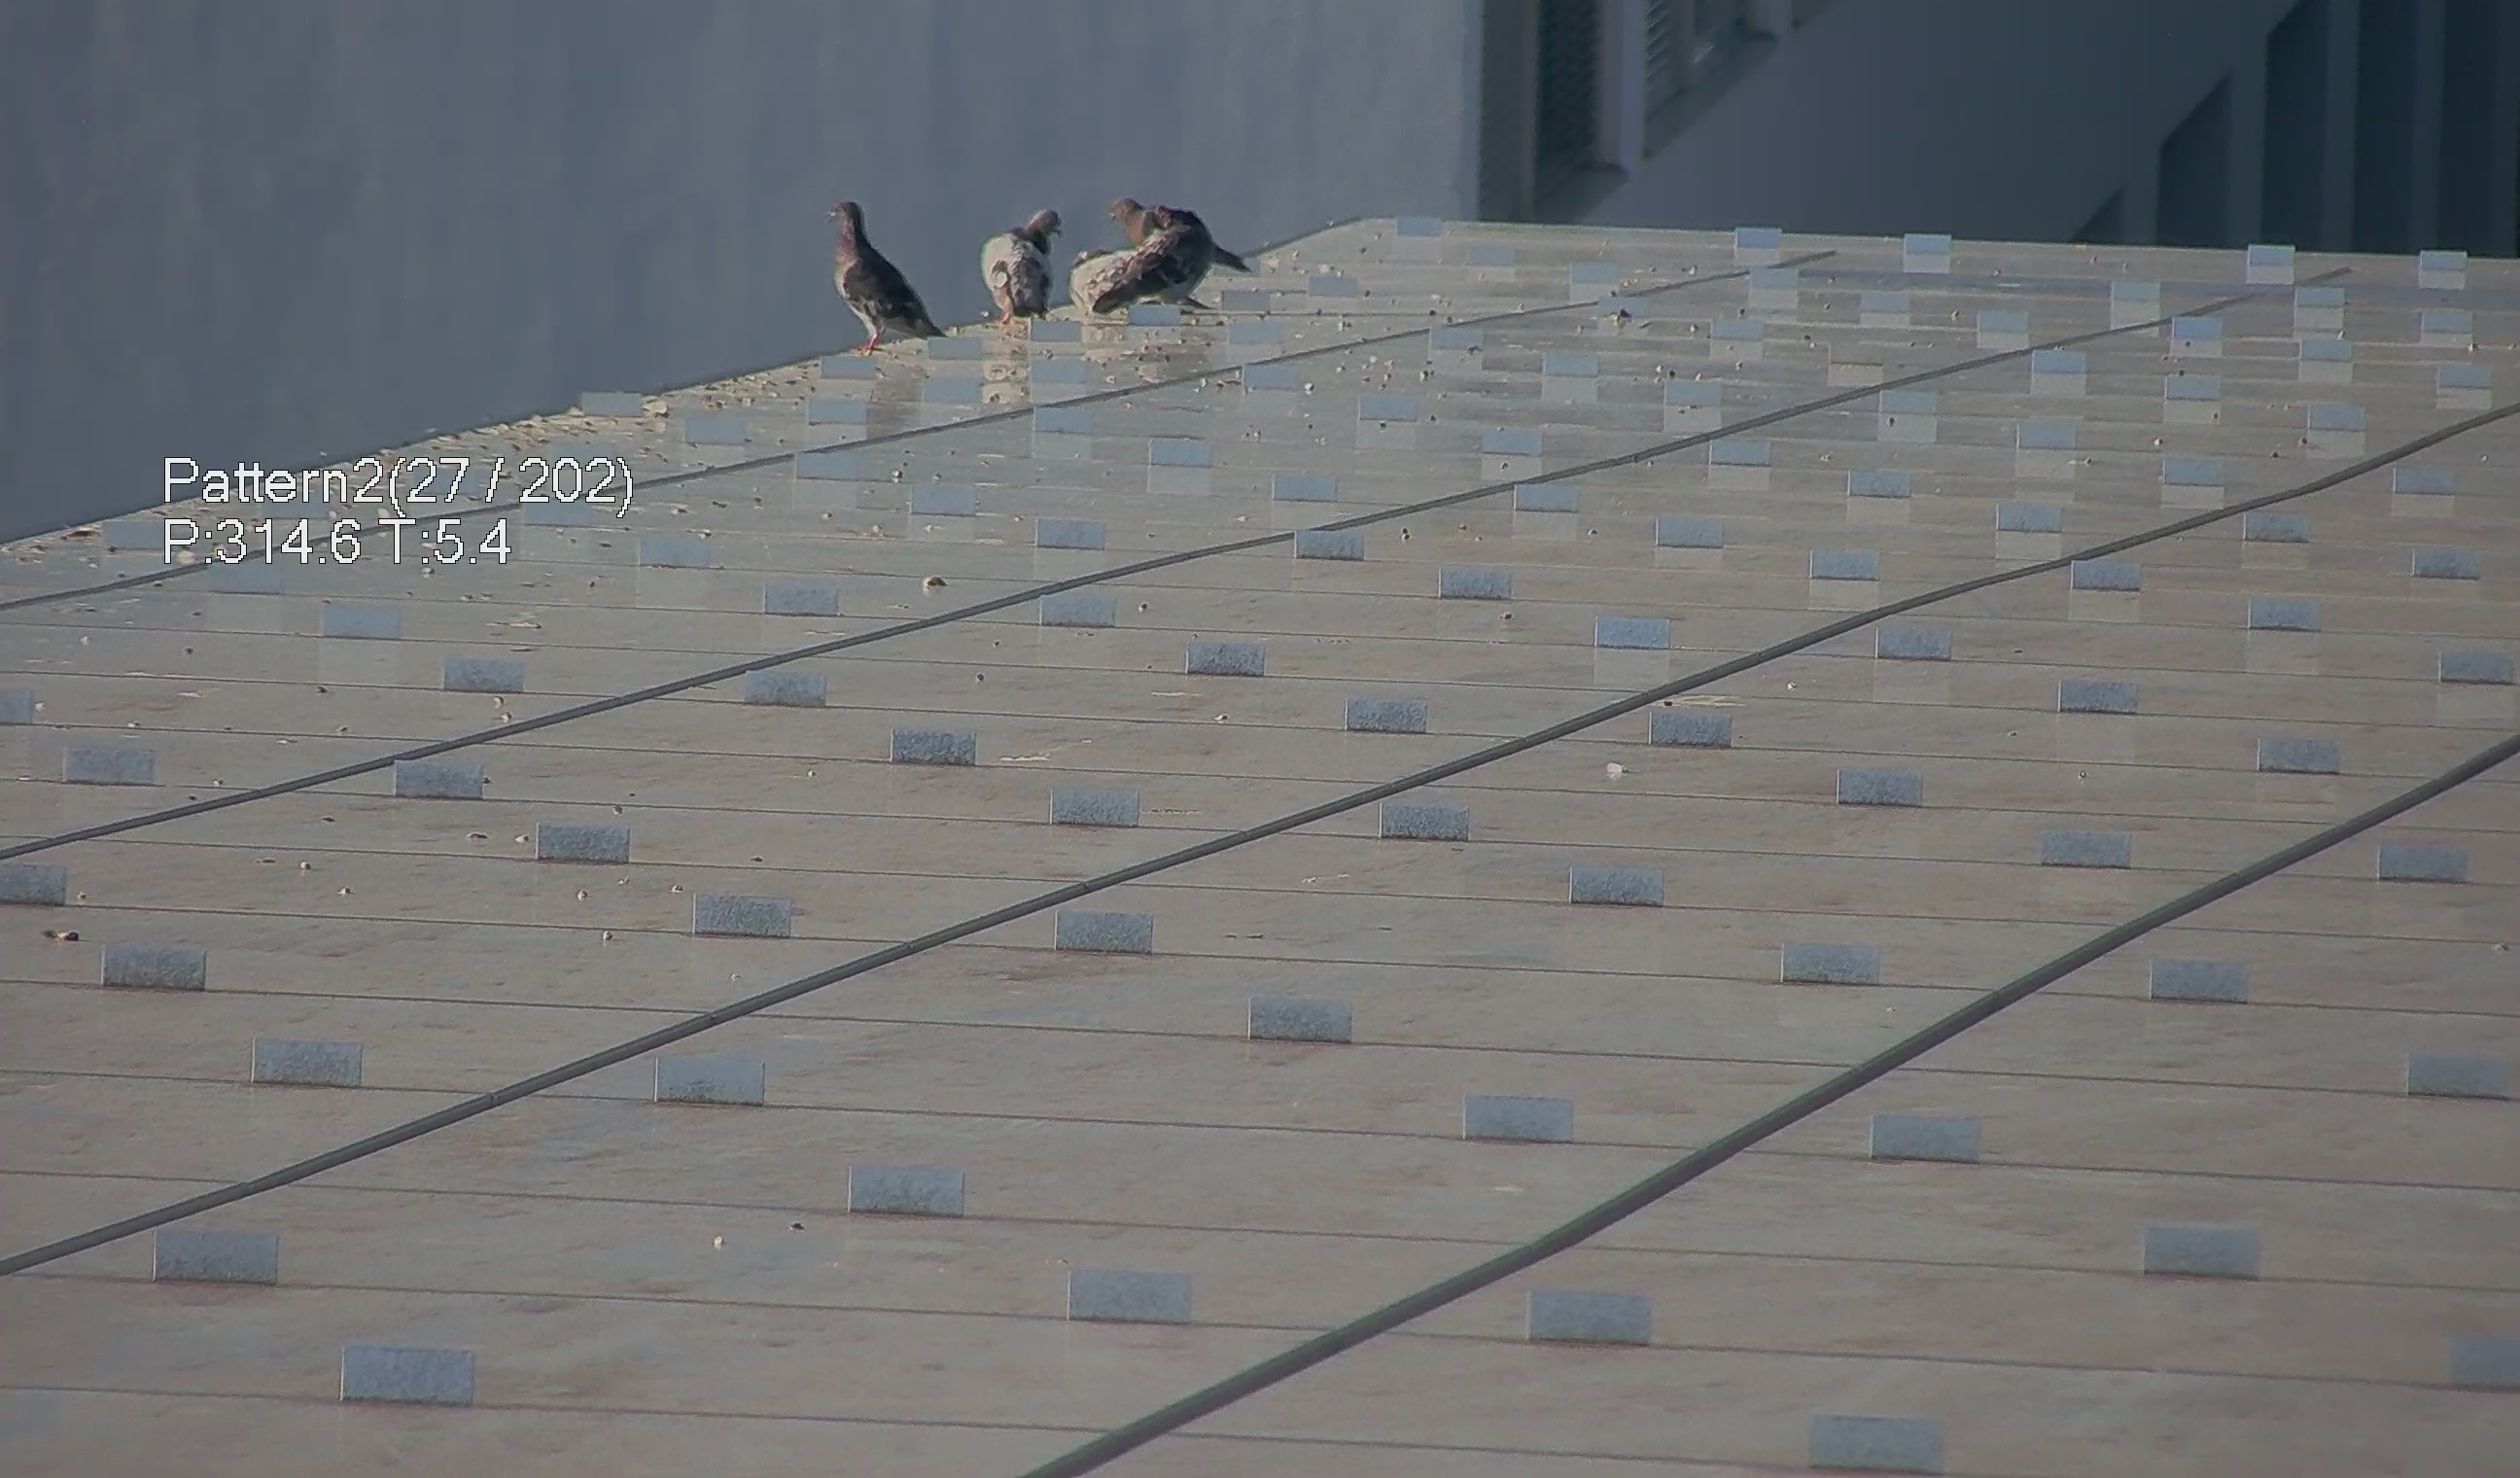Pigeon: (1071, 183, 1247, 320), (804, 187, 943, 343), (969, 195, 1074, 326), (1097, 183, 1182, 246)
